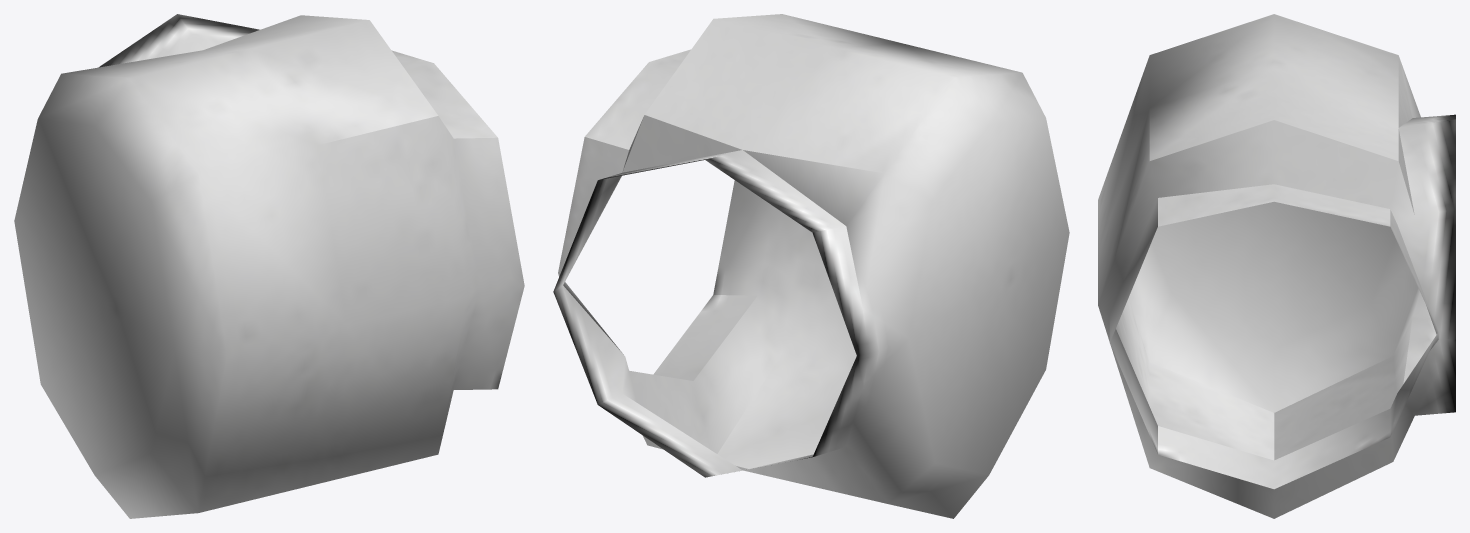
File: little_arm_link_7.dae
3 renders of one model, left to right at view 1: azimuth 30°, elevation 25°; view 2: azimuth 150°, elevation 25°; view 3: azimuth 270°, elevation 25°, orthographic. The views are drawn at different scales.
Parts seen in each view (by area): view 1: Little_Arm_7; view 2: Little_Arm_7; view 3: Little_Arm_7.
Boxes of the visible parts, x1,y1,x2,y2 form: Little_Arm_7: (14, 14, 524, 518); Little_Arm_7: (553, 14, 1069, 518); Little_Arm_7: (1098, 14, 1455, 518).
Size of the model in its own units: 0.2045 by 0.2061 by 0.2535.
Materials: 1 (1 with a texture image).
